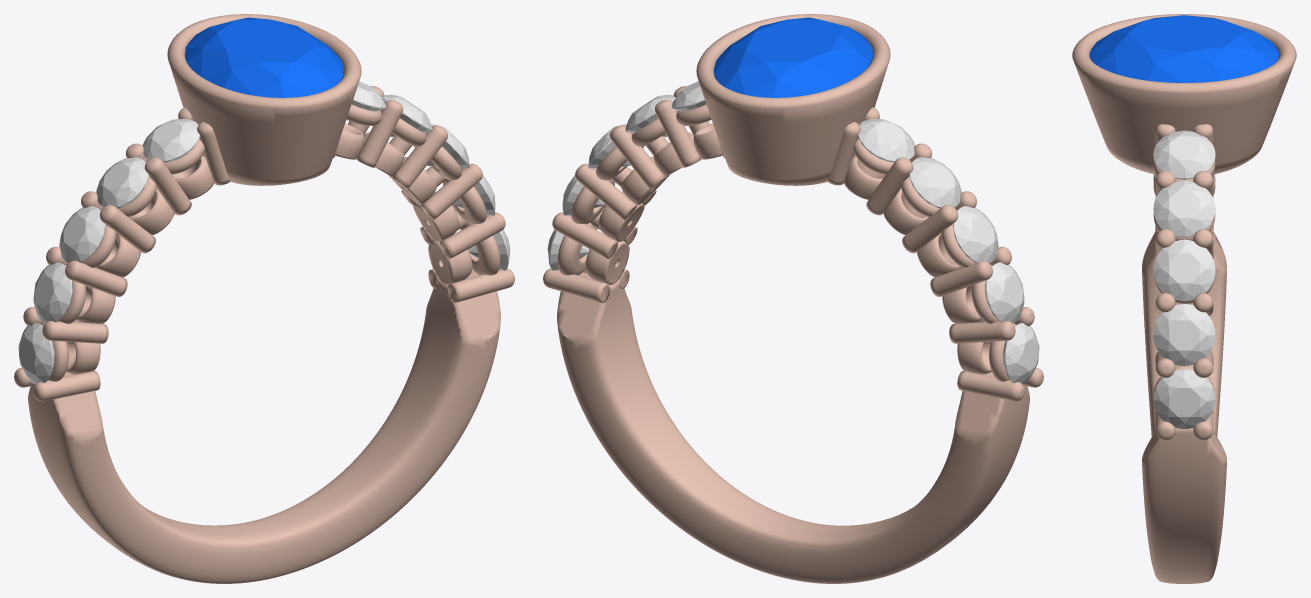
Rendered from bluesapphire-oval-rosegold-bezelset-straighttaperedband-11stone.glb.
3 renders of one model, left to right at view 1: azimuth 30°, elevation 25°; view 2: azimuth 150°, elevation 25°; view 3: azimuth 270°, elevation 25°, orthographic.
Parts seen in each view (by area): view 1: metal, stone.002, side.023, side.022, side.021, side.024, side.020, side.028, side.029; view 2: metal, stone.002, side.023, side.022, side.021, side.024, side.020, side.028, side.029; view 3: metal, stone.002, side.026, side.027, side.025, side.028, side.029.
Part boxes in pixels (left/top/right/bottom): metal: left=14, top=14, right=514, bottom=583; stone.002: left=185, top=17, right=343, bottom=97; side.023: left=96, top=157, right=148, bottom=208; side.022: left=59, top=206, right=105, bottom=262; side.021: left=33, top=262, right=72, bottom=323; side.024: left=142, top=119, right=200, bottom=162; side.020: left=18, top=323, right=54, bottom=384; side.028: left=382, top=94, right=432, bottom=136; side.029: left=347, top=81, right=386, bottom=120; metal: left=543, top=14, right=1043, bottom=583; stone.002: left=714, top=17, right=872, bottom=97; side.023: left=909, top=157, right=961, bottom=208; side.022: left=952, top=206, right=998, bottom=262; side.021: left=985, top=262, right=1024, bottom=323; side.024: left=857, top=119, right=915, bottom=162; side.020: left=1003, top=323, right=1039, bottom=384; side.028: left=625, top=94, right=675, bottom=136; side.029: left=671, top=81, right=710, bottom=120; metal: left=1072, top=14, right=1296, bottom=583; stone.002: left=1089, top=15, right=1279, bottom=82; side.026: left=1153, top=304, right=1215, bottom=365; side.027: left=1153, top=239, right=1215, bottom=300; side.025: left=1153, top=369, right=1215, bottom=428; side.028: left=1153, top=180, right=1215, bottom=237; side.029: left=1153, top=130, right=1215, bottom=179.
Size of the model in its own units: 22.05 by 23.4 by 9.04.
